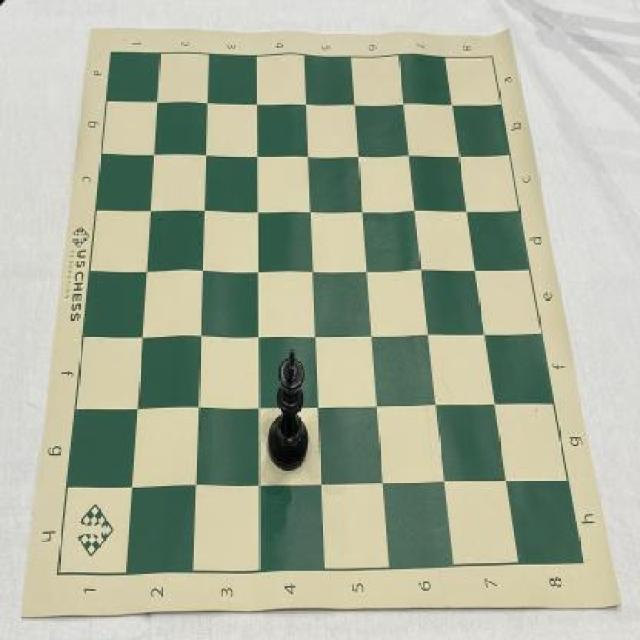black-bishop: (268, 349, 309, 472)
